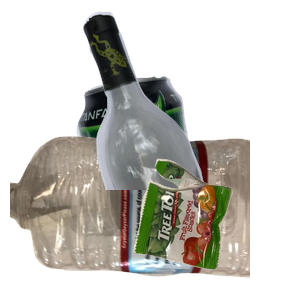glass: (81, 10, 300, 190)
metal: (74, 74, 257, 254)
plastic: (10, 134, 250, 300)
trash: (131, 156, 300, 300)
